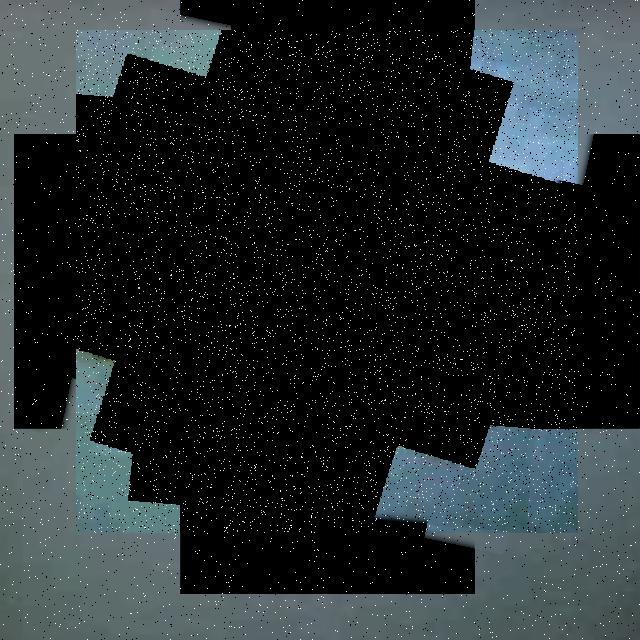lima puluh ribu rupiah: (76, 30, 578, 533)
